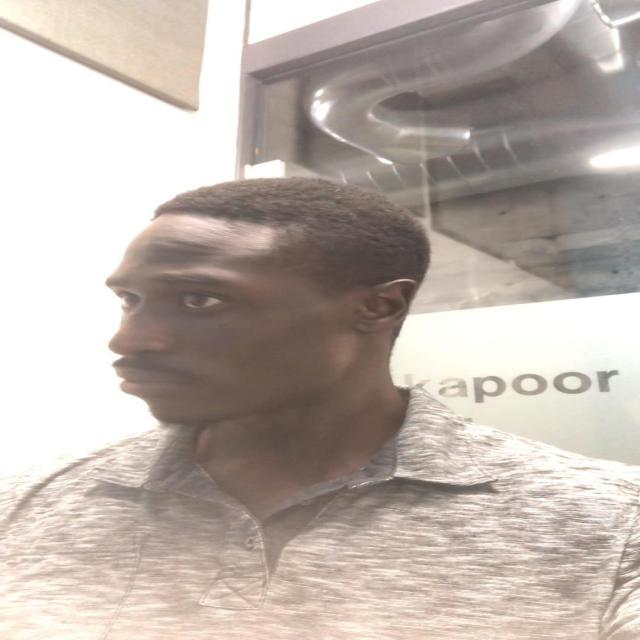face: (108, 213, 377, 429)
